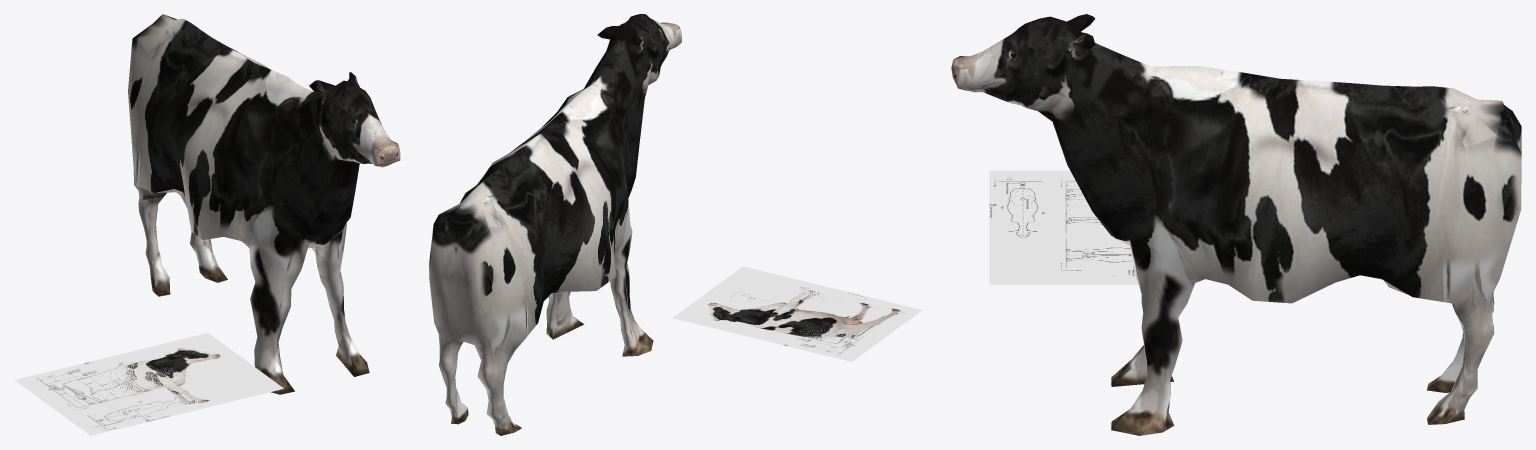
The model's file is Cow-irl.glb.
The picture shows the model from 3 angles, left to right: view 1: azimuth 30°, elevation 25°; view 2: azimuth 150°, elevation 25°; view 3: azimuth 270°, elevation 25°; orthographic projection. The views are drawn at different scales.
Parts seen in each view (by area): view 1: Cow, cow-texture-ortho, cow-ortho; view 2: Cow, cow-texture-ortho, cow-ortho; view 3: Cow, cow-ortho, cow-texture-ortho.
Boxes of the visible parts, box(x1,y1,x2,y2) form: Cow: box(128, 14, 400, 394); cow-texture-ortho: box(15, 333, 283, 435); cow-ortho: box(29, 355, 231, 432); Cow: box(429, 14, 681, 435); cow-texture-ortho: box(672, 266, 922, 361); cow-ortho: box(712, 269, 880, 358); Cow: box(951, 14, 1521, 435); cow-ortho: box(989, 179, 1135, 276); cow-texture-ortho: box(989, 170, 1137, 284).
Bounding box in the file's own units: 2.63 × 2.31 × 3.1.
Materials: 5 (5 with a texture image).
